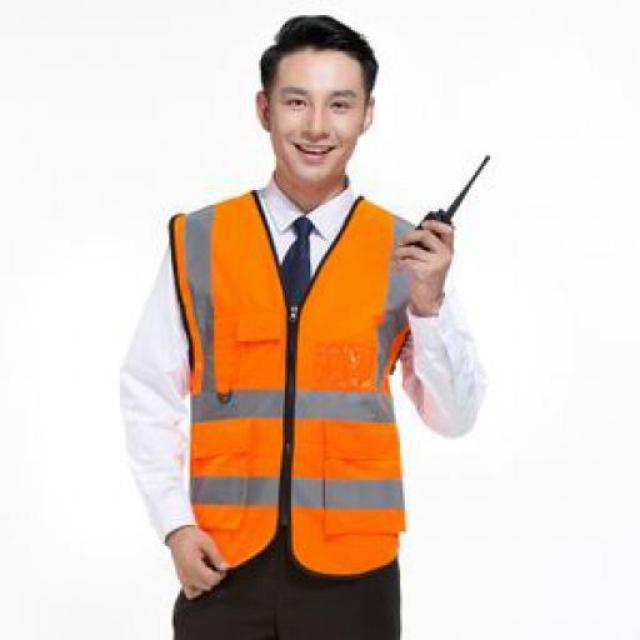vest: (173, 194, 407, 573)
